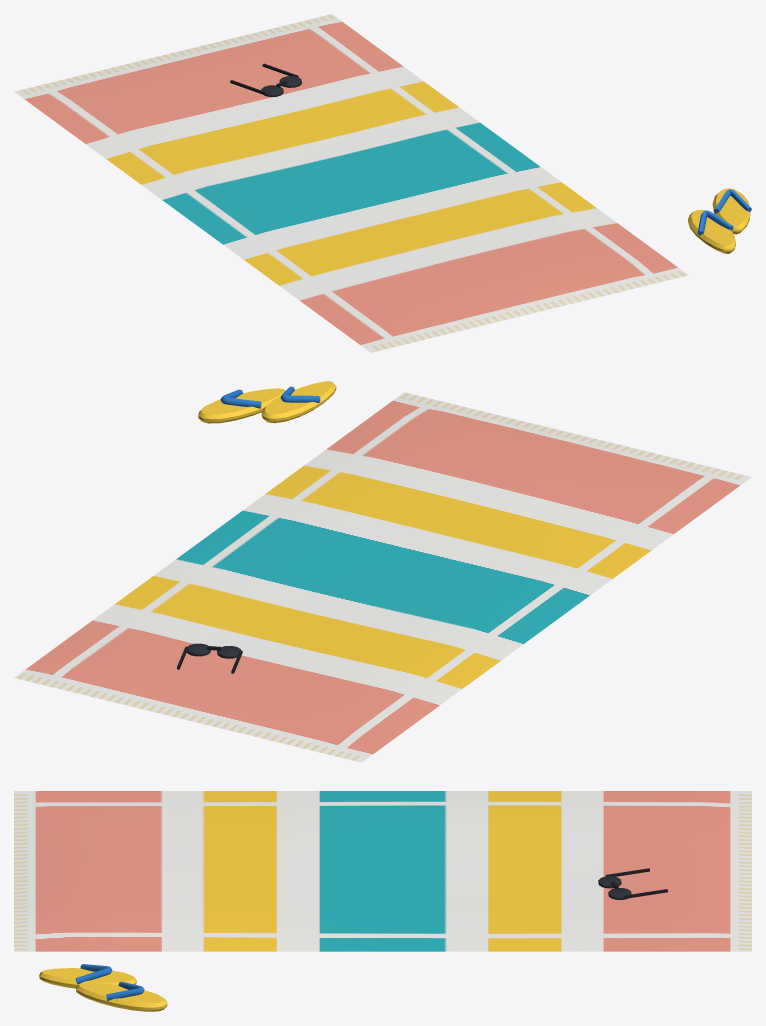
Rendered from toalha_praia_listras.glb.
The picture shows the model from 3 angles, top to bottom: view 1: azimuth 30°, elevation 25°; view 2: azimuth 150°, elevation 25°; view 3: azimuth 270°, elevation 25°; orthographic projection. The views are drawn at different scales.
Parts seen in each view (by area): view 1: toalha_praia_listras; view 2: toalha_praia_listras; view 3: toalha_praia_listras.
Boxes of the visible parts, box(x1,y1,x2,y2) form: toalha_praia_listras: box(14, 14, 751, 352); toalha_praia_listras: box(14, 381, 751, 762); toalha_praia_listras: box(14, 791, 751, 1011).
Bounding box in the file's own units: 1.24 × 0.0454 × 1.75.
2 materials, 2 textured.
